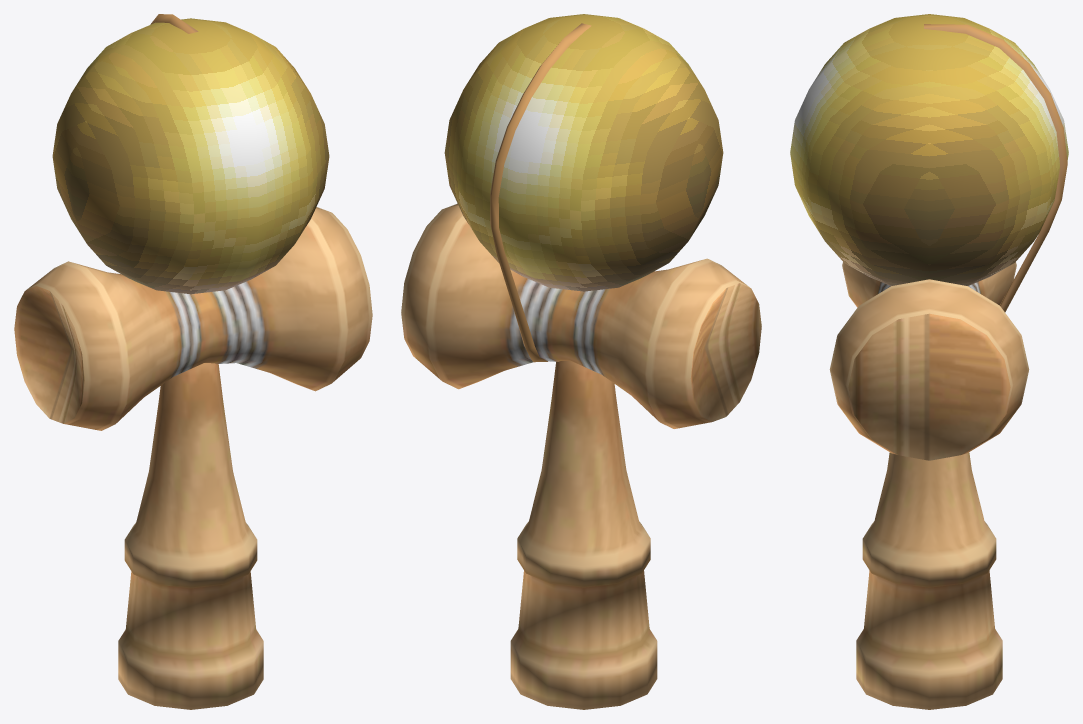
Rendered from rmk_oth_kendama_mtl.dae.
3 renders of one model, left to right at view 1: azimuth 30°, elevation 25°; view 2: azimuth 150°, elevation 25°; view 3: azimuth 270°, elevation 25°, orthographic.
Parts seen in each view (by area): view 1: rmk_oth_kendama_mtl; view 2: rmk_oth_kendama_mtl; view 3: rmk_oth_kendama_mtl.
Part boxes in pixels (x1,y1,x2,y2): rmk_oth_kendama_mtl: (14, 14, 372, 709); rmk_oth_kendama_mtl: (401, 14, 761, 709); rmk_oth_kendama_mtl: (790, 14, 1068, 709).
Size of the model in its own units: 24.05 by 52.89 by 20.4.
Materials: 2 (2 with a texture image).
